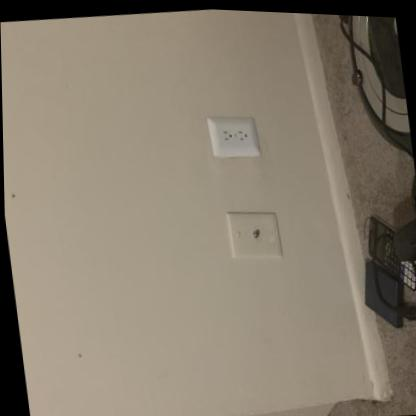OUTLET: (206, 109, 260, 161)
